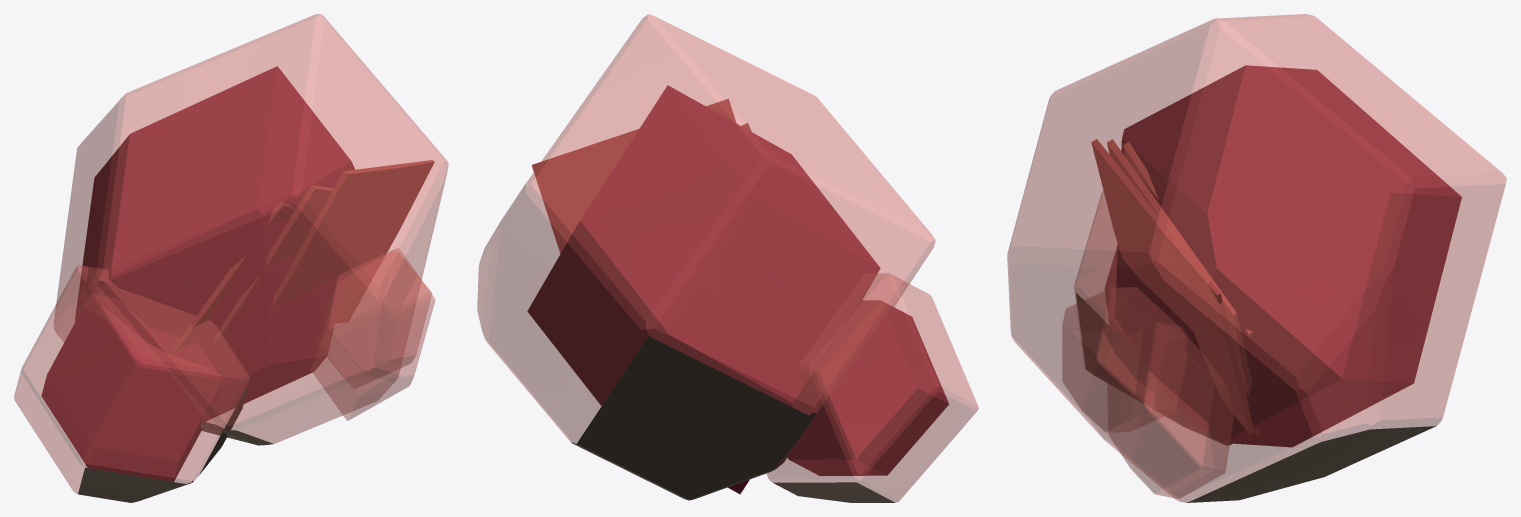
The model's file is corealm_item_cairn_garnet.glb.
3 renders of one model, left to right at view 1: azimuth 30°, elevation 25°; view 2: azimuth 150°, elevation 25°; view 3: azimuth 270°, elevation 25°, orthographic. The views are drawn at different scales.
Parts seen in each view (by area): view 1: corealm_item_cairn_garnet; view 2: corealm_item_cairn_garnet; view 3: corealm_item_cairn_garnet.
Boxes of the visible parts, x1,y1,x2,y2 form: corealm_item_cairn_garnet: (14, 14, 448, 502); corealm_item_cairn_garnet: (477, 14, 978, 502); corealm_item_cairn_garnet: (1007, 14, 1506, 502).
Bounding box in the file's own units: 0.2867 × 0.2837 × 0.2473.
